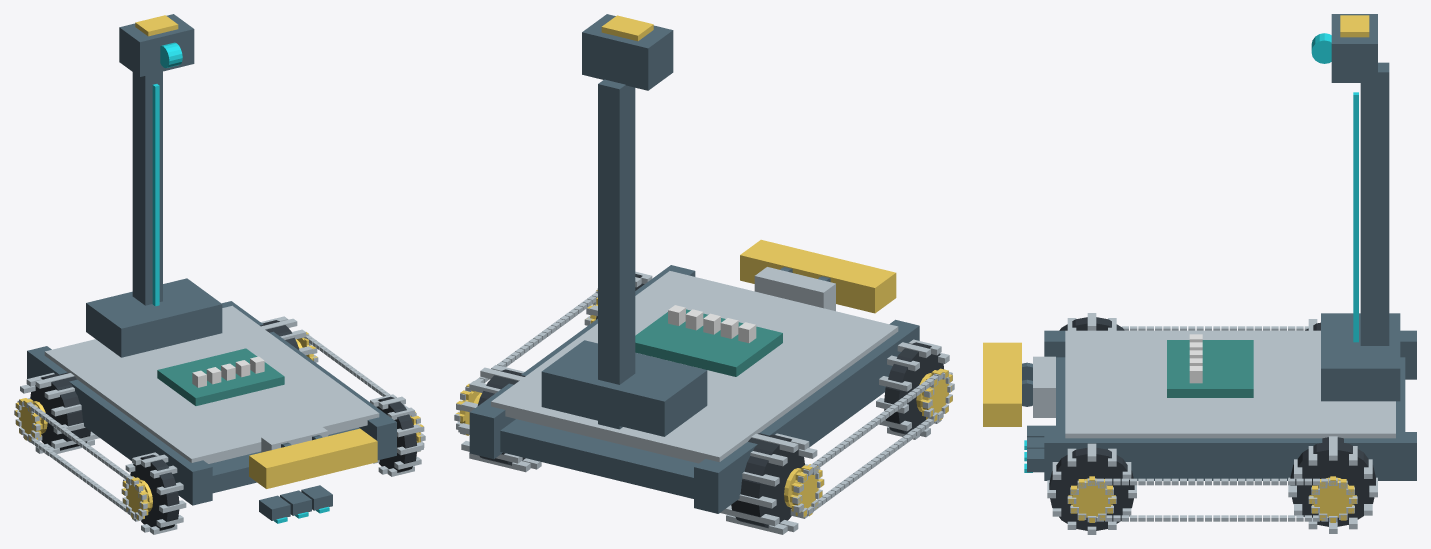
File: four_rubber_chain_DRAFT.glb
3 views of the same model, side by side, from view 1: azimuth 30°, elevation 25°; view 2: azimuth 150°, elevation 25°; view 3: azimuth 270°, elevation 25° (orthographic). The views are drawn at different scales.
Parts seen in each view (by area): view 1: Chassis_Top, Battery_Low_Rear, Camera_Mast, Chassis_Rail_-1, Universal_AttachmentDock_Fixed, Controller_PCB, Camera_Housing, Wheel_Rear_-1, Chassis_Rail_1, Camera_Mast_Cyan, Wheel_Front_-1, Chassis_Lower (+7 smaller); view 2: Chassis_Top, Camera_Mast, Battery_Low_Rear, Chassis_Rail_-1, Chassis_Lower, Universal_AttachmentDock_Fixed, Controller_PCB, Camera_Housing, Wheel_Rear_-1, Chassis_Rail_1, Ultrasonic_Front, Wheel_Front_-1 (+2 smaller); view 3: Chassis_Top, Chassis_Rail_1, Camera_Mast, Battery_Low_Rear, Controller_PCB, Universal_AttachmentDock_Fixed, Wheel_Rear_1, Wheel_Front_1, Camera_Housing, Camera_Mast_Cyan, Ultrasonic_Front, Chassis_Rail_-1 (+5 smaller).
Part boxes in pixels (x1=…): Chassis_Top: x1=44, y1=305, x2=379, y2=463; Battery_Low_Rear: x1=86, y1=278, x2=222, y2=357; Camera_Mast: x1=132, y1=71, x2=162, y2=305; Chassis_Rail_-1: x1=27, y1=346, x2=212, y2=505; Universal_AttachmentDock_Fixed: x1=249, y1=428, x2=377, y2=488; Controller_PCB: x1=157, y1=348, x2=284, y2=405; Camera_Housing: x1=119, y1=14, x2=194, y2=76; Wheel_Rear_-1: x1=30, y1=372, x2=90, y2=450; Chassis_Rail_1: x1=222, y1=301, x2=396, y2=460; Camera_Mast_Cyan: x1=152, y1=84, x2=159, y2=306; Wheel_Front_-1: x1=130, y1=454, x2=179, y2=530; Chassis_Lower: x1=209, y1=427, x2=359, y2=493; Chassis_Top: x1=491, y1=271, x2=898, y2=463; Camera_Mast: x1=598, y1=79, x2=635, y2=429; Battery_Low_Rear: x1=541, y1=340, x2=707, y2=436; Chassis_Rail_-1: x1=694, y1=319, x2=919, y2=513; Chassis_Lower: x1=500, y1=419, x2=698, y2=498; Universal_AttachmentDock_Fixed: x1=740, y1=239, x2=896, y2=313; Controller_PCB: x1=635, y1=309, x2=782, y2=376; Camera_Housing: x1=582, y1=14, x2=673, y2=90; Wheel_Rear_-1: x1=731, y1=433, x2=804, y2=528; Chassis_Rail_1: x1=469, y1=265, x2=695, y2=459; Ultrasonic_Front: x1=754, y1=267, x2=835, y2=311; Wheel_Front_-1: x1=884, y1=342, x2=943, y2=434; Chassis_Top: x1=1065, y1=330, x2=1395, y2=438; Chassis_Rail_1: x1=1044, y1=432, x2=1416, y2=480; Camera_Mast: x1=1360, y1=62, x2=1389, y2=345; Battery_Low_Rear: x1=1321, y1=313, x2=1400, y2=401; Controller_PCB: x1=1167, y1=340, x2=1253, y2=397; Universal_AttachmentDock_Fixed: x1=983, y1=342, x2=1021, y2=426; Wheel_Rear_1: x1=1290, y1=437, x2=1375, y2=526; Wheel_Front_1: x1=1049, y1=447, x2=1134, y2=530; Camera_Housing: x1=1331, y1=14, x2=1377, y2=82; Camera_Mast_Cyan: x1=1353, y1=92, x2=1358, y2=342; Ultrasonic_Front: x1=1033, y1=356, x2=1055, y2=417; Chassis_Rail_-1: x1=1044, y1=330, x2=1416, y2=379.
Size of the model in its own units: 0.254 by 0.336 by 0.3005.
